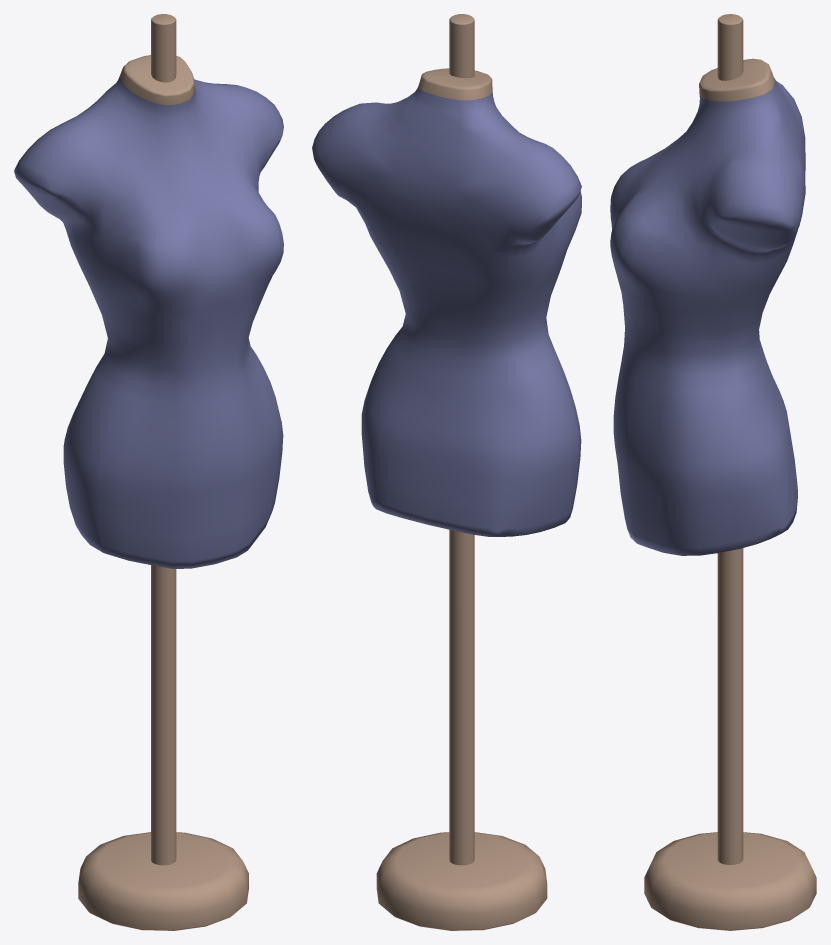
The model's file is Mannequin_1.glb.
The picture shows the model from 3 angles, left to right: view 1: azimuth 30°, elevation 25°; view 2: azimuth 150°, elevation 25°; view 3: azimuth 270°, elevation 25°; orthographic projection.
Parts seen in each view (by area): view 1: Mannequin_1; view 2: Mannequin_1; view 3: Mannequin_1.
Part boxes in pixels (bbox=[...]): Mannequin_1: bbox=[14, 14, 283, 930]; Mannequin_1: bbox=[312, 14, 581, 930]; Mannequin_1: bbox=[610, 14, 816, 930].
Bounding box in the file's own units: 0.7152 × 2.34 × 0.4992.
1 material, 1 textured.
